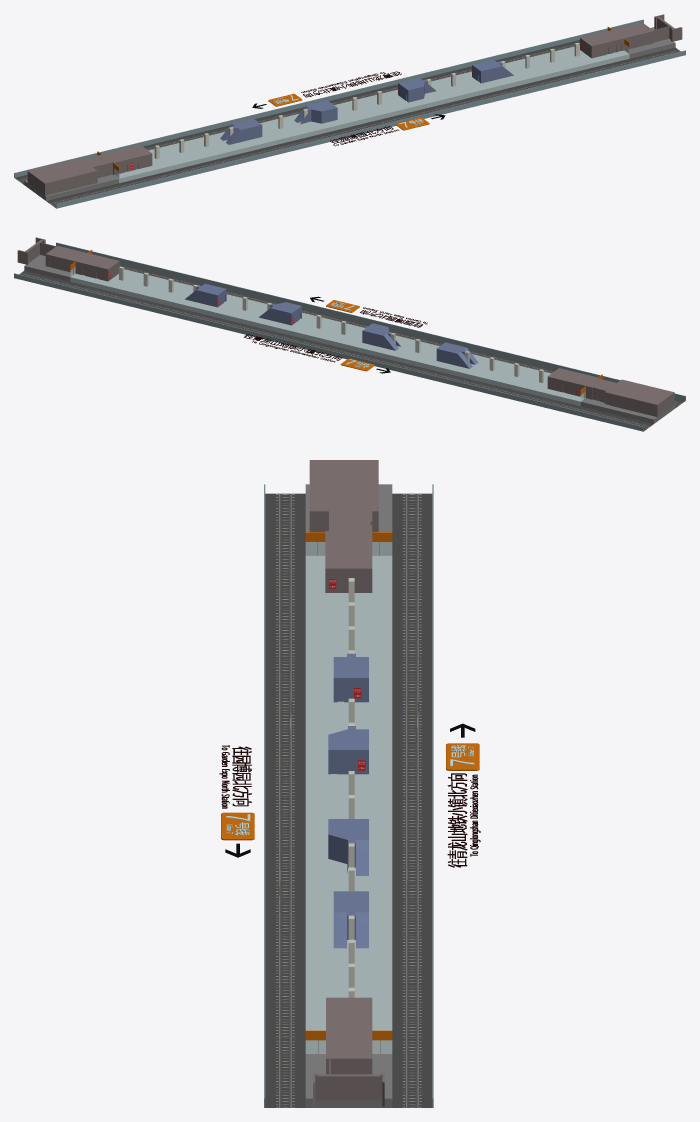
Rendered from psop-whgj-qsl-b2.fe95e5a.glb.
The picture shows the model from 3 angles, top to bottom: view 1: azimuth 30°, elevation 25°; view 2: azimuth 150°, elevation 25°; view 3: azimuth 270°, elevation 25°; orthographic projection. The views are drawn at different scales.
Visible parts, largest first — view 1: road-b2-2, Object131, Object128, Object, Object100, road-b2-3, Object039, Text002, Text006; view 2: road-b2-2, Object131, Object128, Object, Object100, road-b2-3, Object039, Text002, Text006; view 3: Object128, road-b2-2, Object, Object100, road-b2-3, Object131, Object039, Text002, Text006.
Part boxes in pixels (left/top/right/bottom): road-b2-2: left=114, top=45, right=629, bottom=183; Object131: left=14, top=19, right=685, bottom=208; Object128: left=15, top=40, right=680, bottom=207; Object: left=27, top=14, right=682, bottom=195; Object100: left=220, top=59, right=513, bottom=144; road-b2-3: left=24, top=27, right=675, bottom=200; Object039: left=154, top=42, right=579, bottom=158; Text002: left=301, top=71, right=401, bottom=97; Text006: left=330, top=126, right=399, bottom=146; road-b2-2: left=70, top=269, right=585, bottom=406; Object131: left=14, top=242, right=685, bottom=431; Object128: left=19, top=263, right=684, bottom=430; Object: left=17, top=237, right=674, bottom=416; Object100: left=185, top=283, right=478, bottom=368; road-b2-3: left=24, top=255, right=675, bottom=423; Object039: left=119, top=266, right=543, bottom=382; Text002: left=244, top=334, right=342, bottom=362; Text006: left=360, top=307, right=427, bottom=327; Object128: left=265, top=493, right=432, bottom=1107; road-b2-2: left=305, top=556, right=392, bottom=1053; Object: left=309, top=460, right=384, bottom=1106; Object100: left=328, top=653, right=368, bottom=948; road-b2-3: left=305, top=484, right=392, bottom=1107; Object131: left=264, top=484, right=433, bottom=1107; Object039: left=348, top=578, right=354, bottom=997; Text002: left=447, top=773, right=480, bottom=867; Text006: left=219, top=745, right=251, bottom=808.
Size of the model in its own units: 220 by 5.5 by 38.94.
Materials: 14 (3 with a texture image).
